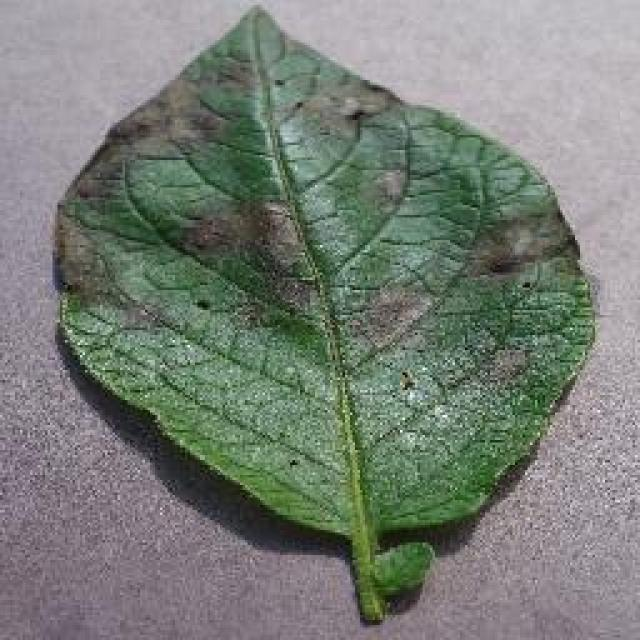late_blight: (47, 0, 600, 622)
